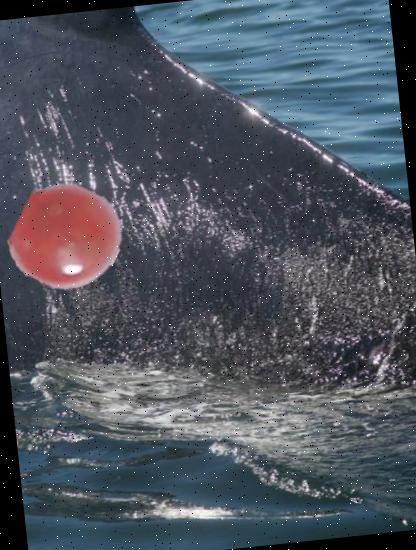Redcurrant: (7, 178, 126, 297)
